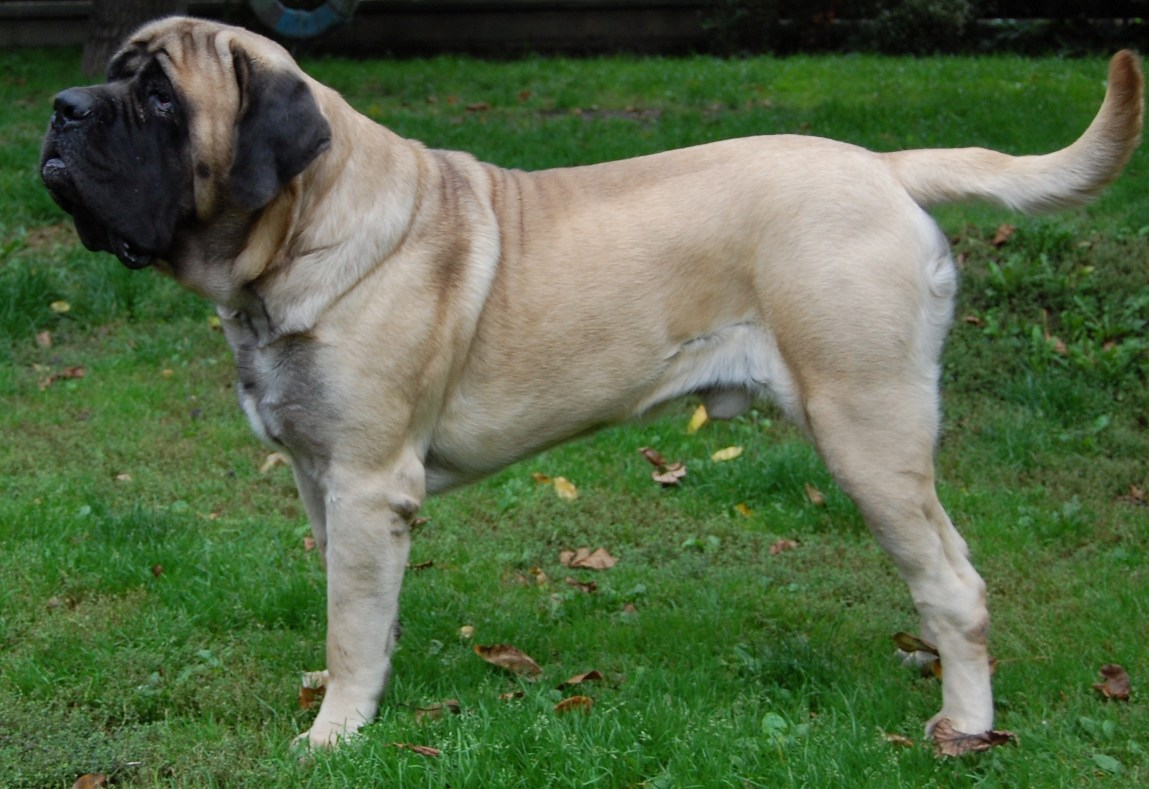mastiff: (37, 14, 1143, 759)
